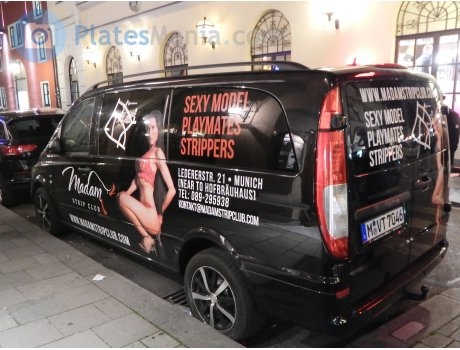License Plates: (363, 222, 399, 229)
